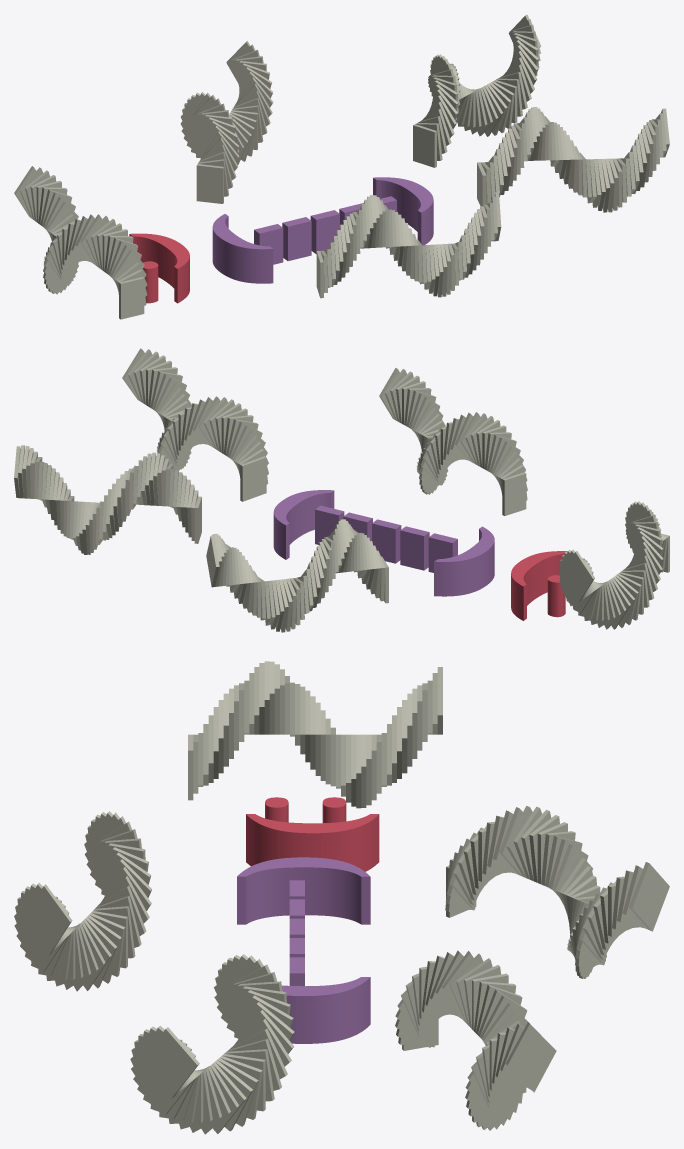
The model's file is space1.glb.
3 views of the same model, one above another, from view 1: azimuth 30°, elevation 25°; view 2: azimuth 150°, elevation 25°; view 3: azimuth 270°, elevation 25° (orthographic). The views are drawn at different scales.
Visible parts, largest first — view 1: Mesh_Mesh_head_geo.001_lambert2SG.001; view 2: Mesh_Mesh_head_geo.001_lambert2SG.001; view 3: Mesh_Mesh_head_geo.001_lambert2SG.001.
Part boxes in pixels (left/top/right/bottom): Mesh_Mesh_head_geo.001_lambert2SG.001: left=14, top=14, right=669, bottom=319; Mesh_Mesh_head_geo.001_lambert2SG.001: left=14, top=348, right=669, bottom=632; Mesh_Mesh_head_geo.001_lambert2SG.001: left=14, top=661, right=669, bottom=1134.
Bounding box in the file's own units: 175 × 30.17 × 124.
